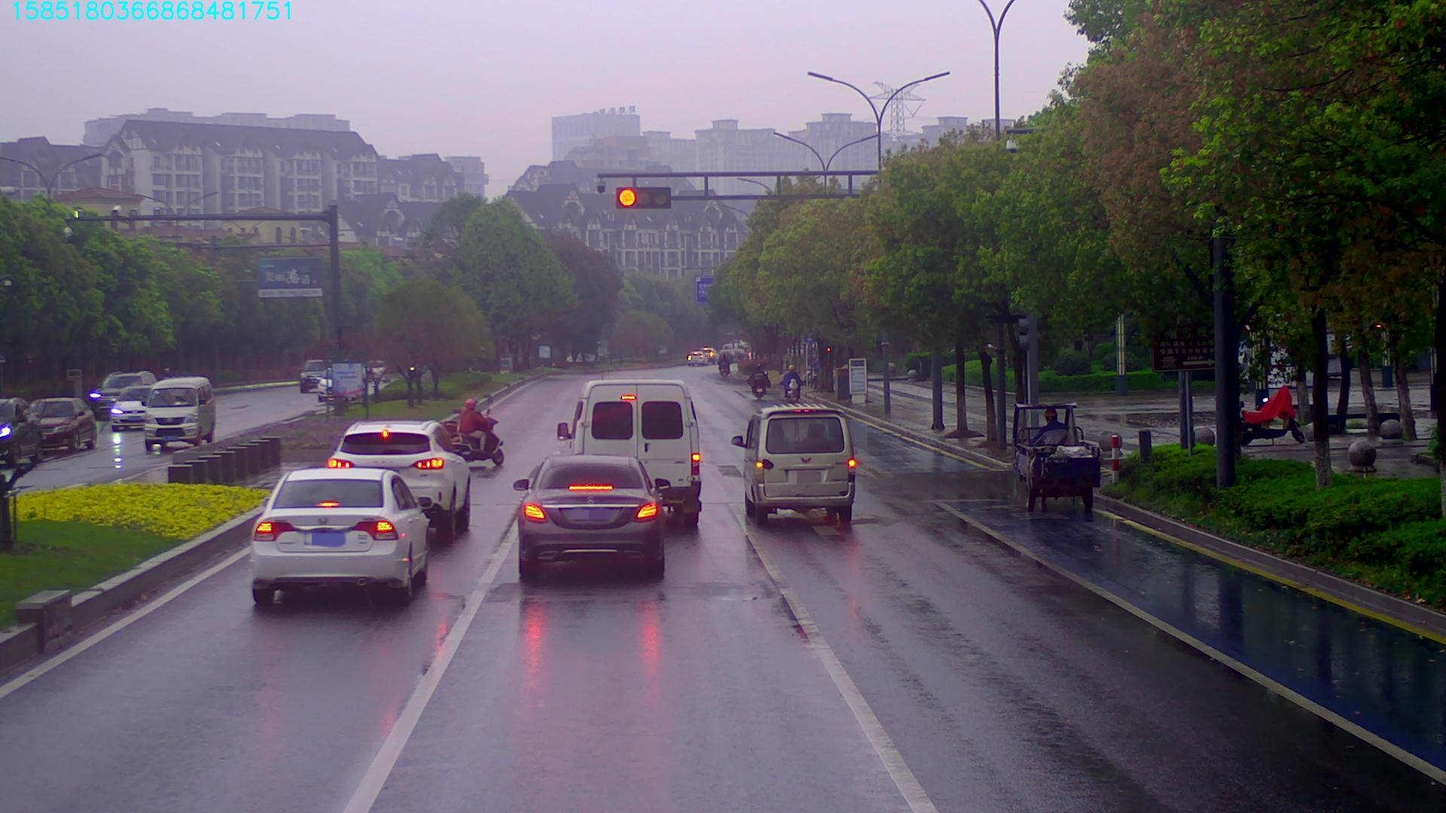red: (618, 188, 667, 209)
